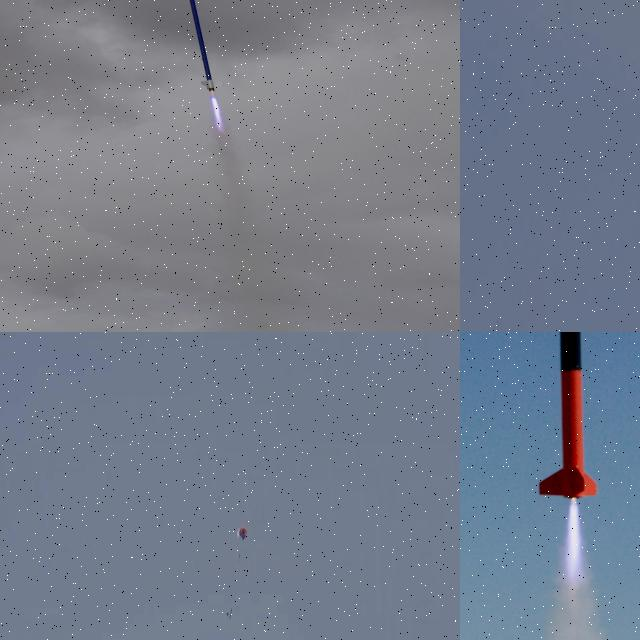Rocket: (538, 332, 600, 501), (187, 0, 224, 92)
